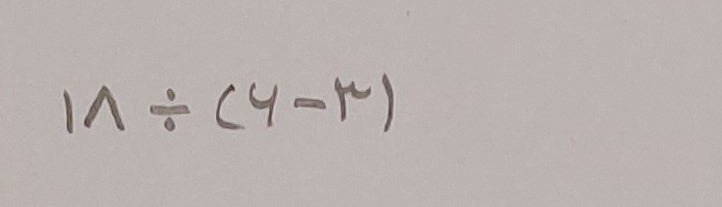character: (83, 85, 125, 131), (334, 76, 372, 122), (150, 88, 188, 129), (215, 84, 244, 129), (248, 82, 275, 127), (382, 73, 394, 130), (62, 89, 75, 133), (294, 98, 328, 110)
